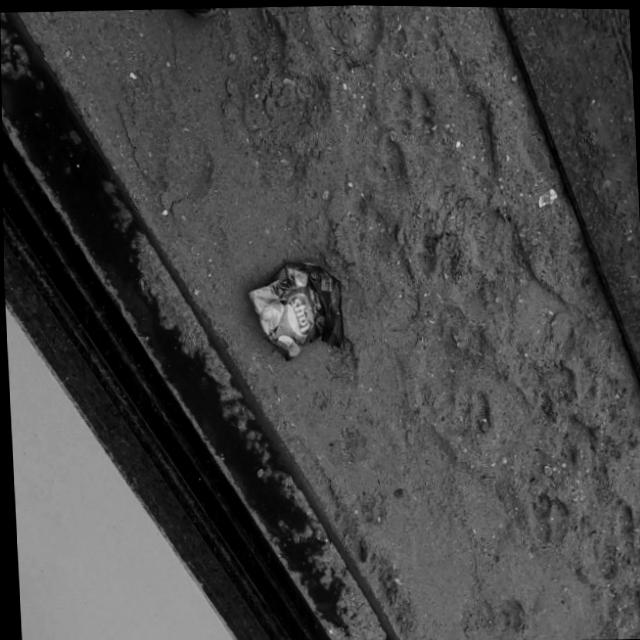Plastic: (243, 257, 345, 365)
